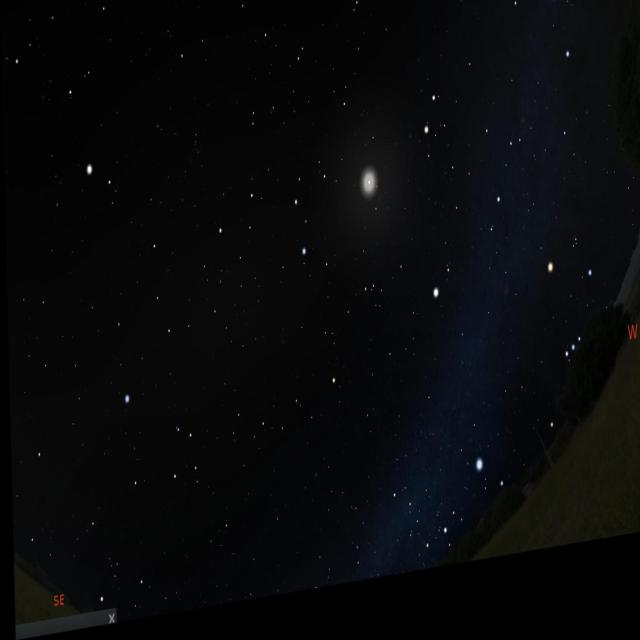bootes: (42, 0, 116, 210)
canis_major: (438, 459, 513, 569)
canis_minor: (427, 282, 461, 335)
gemini: (414, 88, 525, 250)
leo: (197, 147, 331, 300)
moon: (352, 162, 384, 230)
orion: (537, 274, 613, 462)
